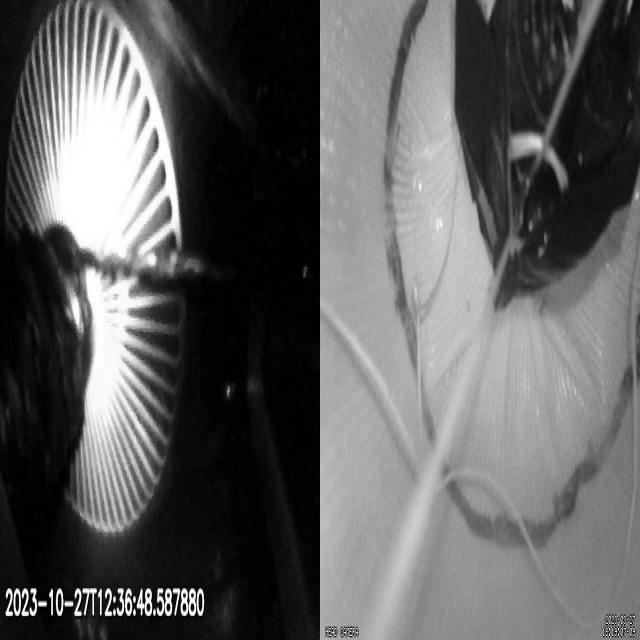red-circle: (383, 0, 640, 552)
